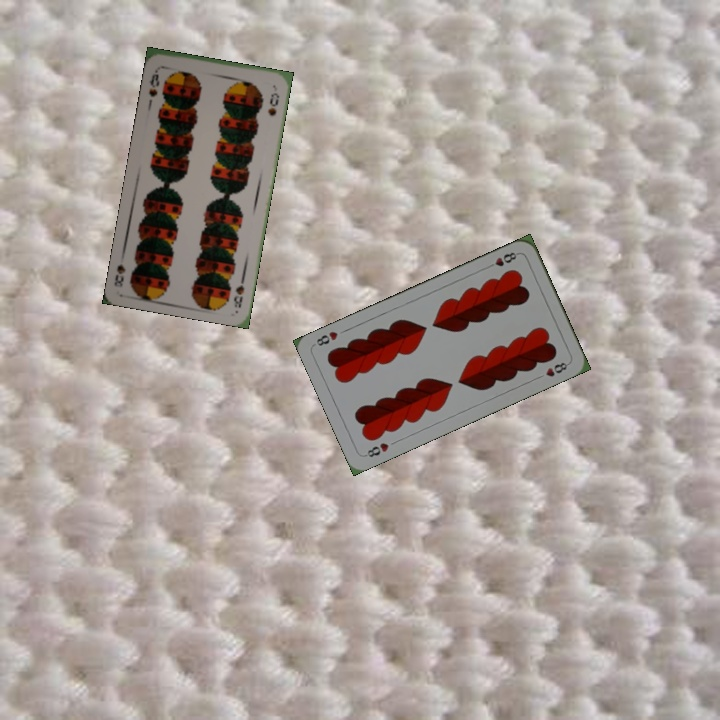H8: (483, 248, 521, 271), (360, 439, 391, 460)
S8: (145, 64, 167, 99), (230, 270, 248, 310)
